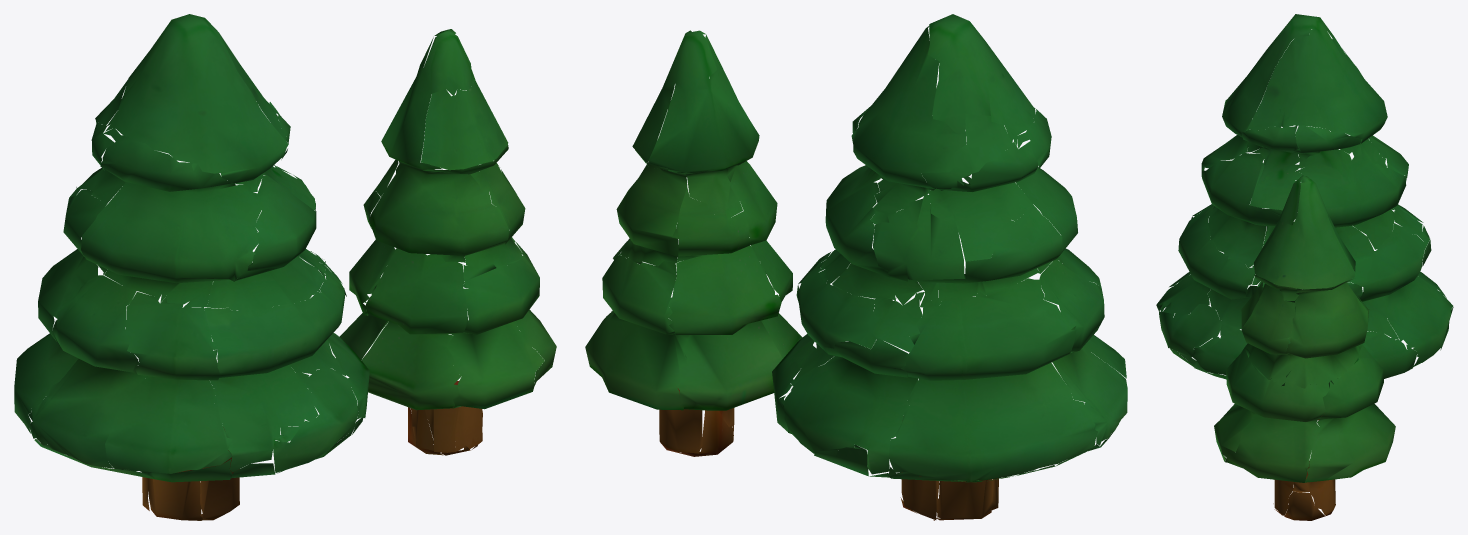
The model's file is nadelbaum_1.glb.
The picture shows the model from 3 angles, left to right: view 1: azimuth 30°, elevation 25°; view 2: azimuth 150°, elevation 25°; view 3: azimuth 270°, elevation 25°; orthographic projection. The views are drawn at different scales.
Parts seen in each view (by area): view 1: tripo_node_6ba562e1-6740-41a7-a391-fbba48f42fd3; view 2: tripo_node_6ba562e1-6740-41a7-a391-fbba48f42fd3; view 3: tripo_node_6ba562e1-6740-41a7-a391-fbba48f42fd3.
Boxes of the visible parts, x1=… form: tripo_node_6ba562e1-6740-41a7-a391-fbba48f42fd3: x1=14, y1=14, x2=556, y2=520; tripo_node_6ba562e1-6740-41a7-a391-fbba48f42fd3: x1=585, y1=14, x2=1127, y2=520; tripo_node_6ba562e1-6740-41a7-a391-fbba48f42fd3: x1=1156, y1=14, x2=1453, y2=520.
Bounding box in the file's own units: 0.9995 × 0.9138 × 0.6289.
1 material, 1 textured.
